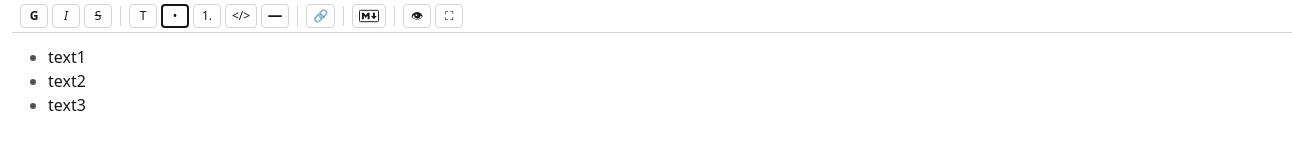
it: Copie en Markdown (1.2.1) › sans sélection, l’entrée est grisée
Right-click the field labelled "text1 text2 text3" at {"x": 67, "y": 81}, box [48,46,86,116]
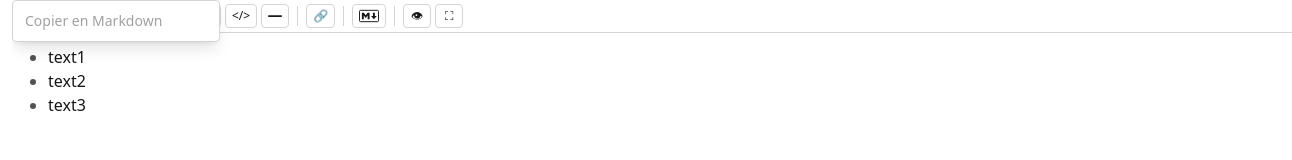
expect the menu item "Copier en Markdown" is disabled: met, box [13,5,219,37]
